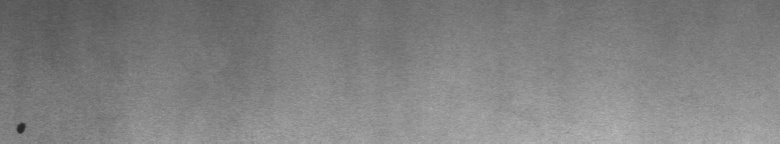fi: (10, 116, 32, 136)
